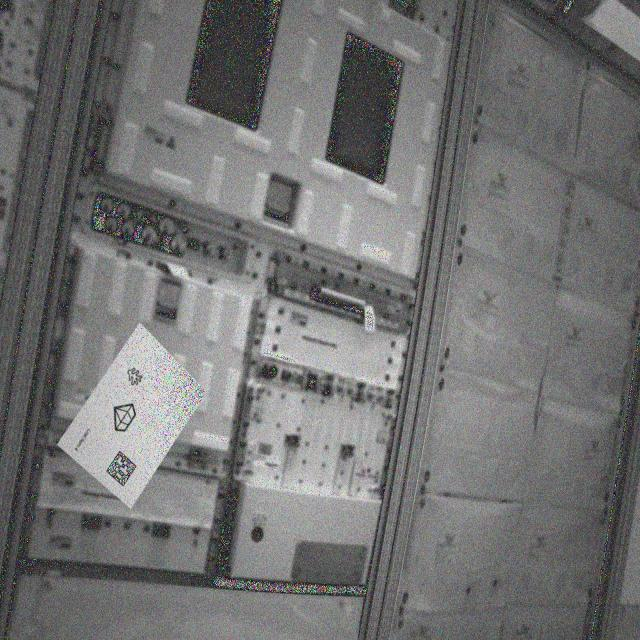coin: (121, 359, 152, 394)
coral: (121, 359, 152, 394)
diamond: (101, 397, 147, 443)
